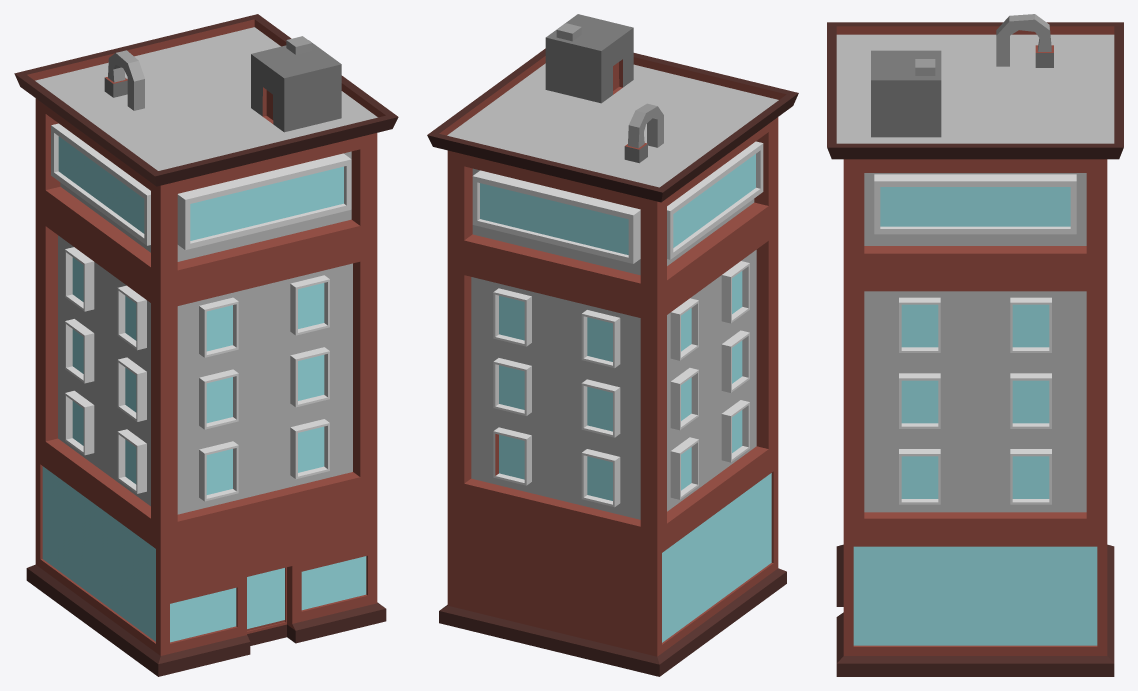
Rendered from Apartment.fbx.
3 renders of one model, left to right at view 1: azimuth 30°, elevation 25°; view 2: azimuth 150°, elevation 25°; view 3: azimuth 270°, elevation 25°, orthographic. The views are drawn at different scales.
Visible parts, largest first — view 1: Apartment; view 2: Apartment; view 3: Apartment.
Boxes of the visible parts, x1,y1,x2,y2 form: Apartment: (14, 14, 398, 676); Apartment: (427, 14, 798, 676); Apartment: (827, 14, 1123, 676).
Bounding box in the file's own units: 642 × 1410 × 642.
